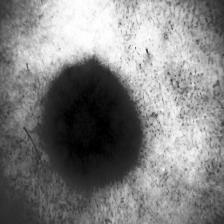Benign Marking or Mole: (47, 58, 140, 180)
